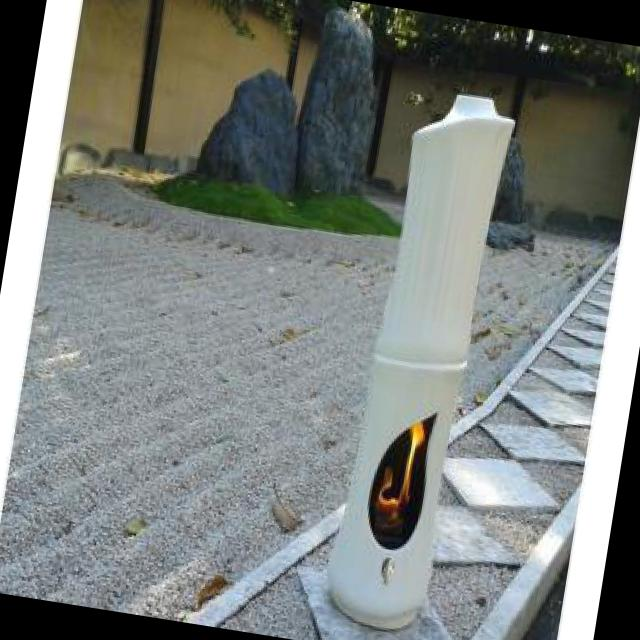Fire: (366, 422, 434, 548)
